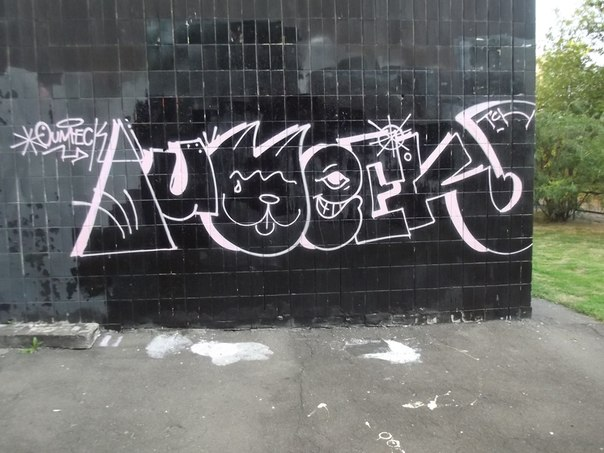graffity: (7, 94, 536, 266)
